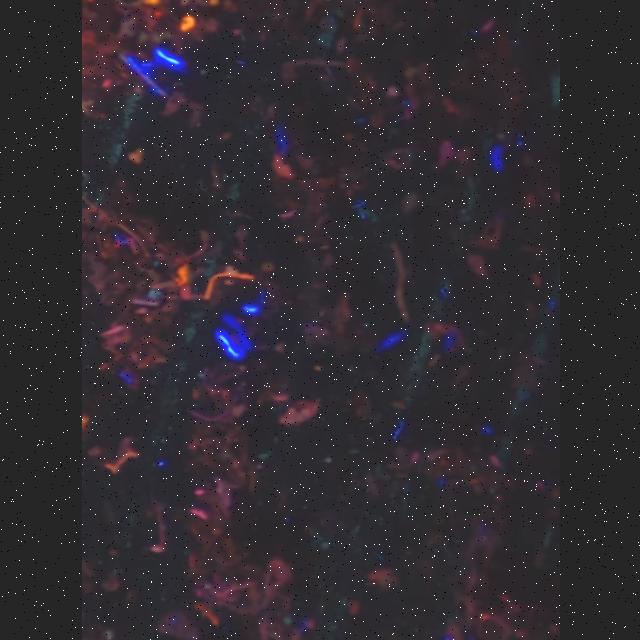Fragment: (278, 398, 318, 424)
